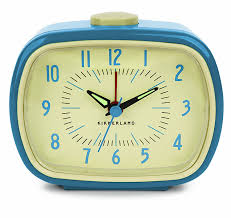alarm_clock: (6, 10, 223, 191), (6, 10, 223, 185), (6, 33, 223, 185), (25, 33, 223, 185)
